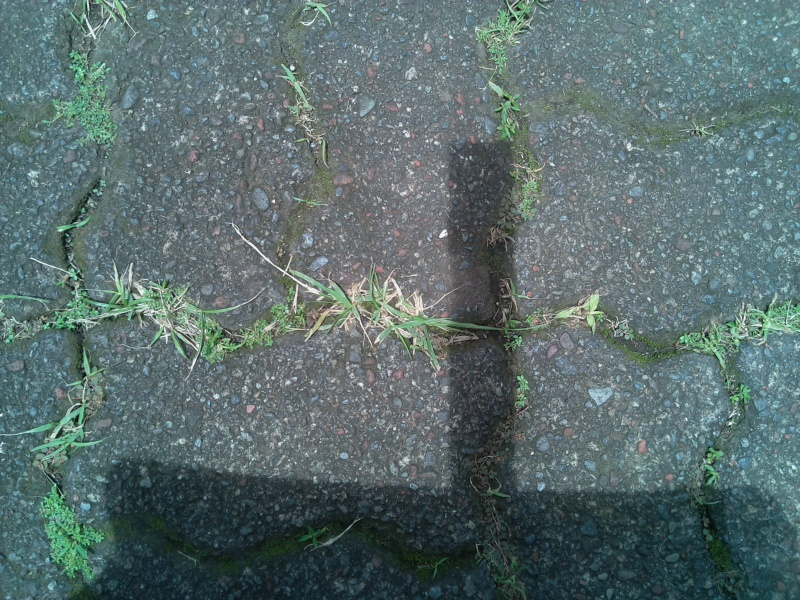Weed: (303, 270, 439, 350), (110, 263, 206, 359), (682, 292, 800, 366), (34, 359, 100, 469), (53, 45, 119, 151), (38, 484, 105, 574), (45, 366, 105, 462), (279, 63, 330, 159), (481, 166, 538, 250), (212, 306, 309, 354), (472, 518, 529, 599), (46, 265, 101, 339), (541, 289, 612, 337), (483, 76, 526, 144), (477, 10, 522, 71), (289, 518, 354, 550), (694, 445, 724, 501), (510, 372, 534, 416), (726, 379, 755, 408)
